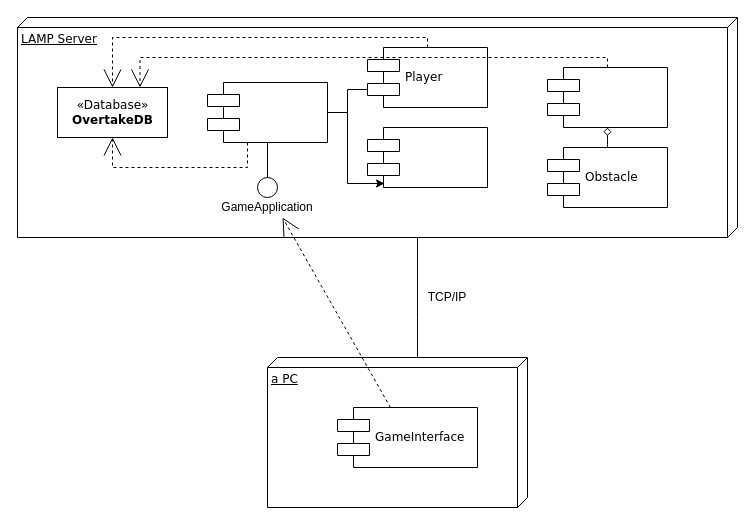
This 755x525 diagram has some shape labels left out. The shapes that lost their labels are listed below. From the top down, each one's centre as x and y in pixels, then its label:
At pixel 267 112: "User Account".
At pixel 607 97: "Level".
At pixel 427 157: "Room".
